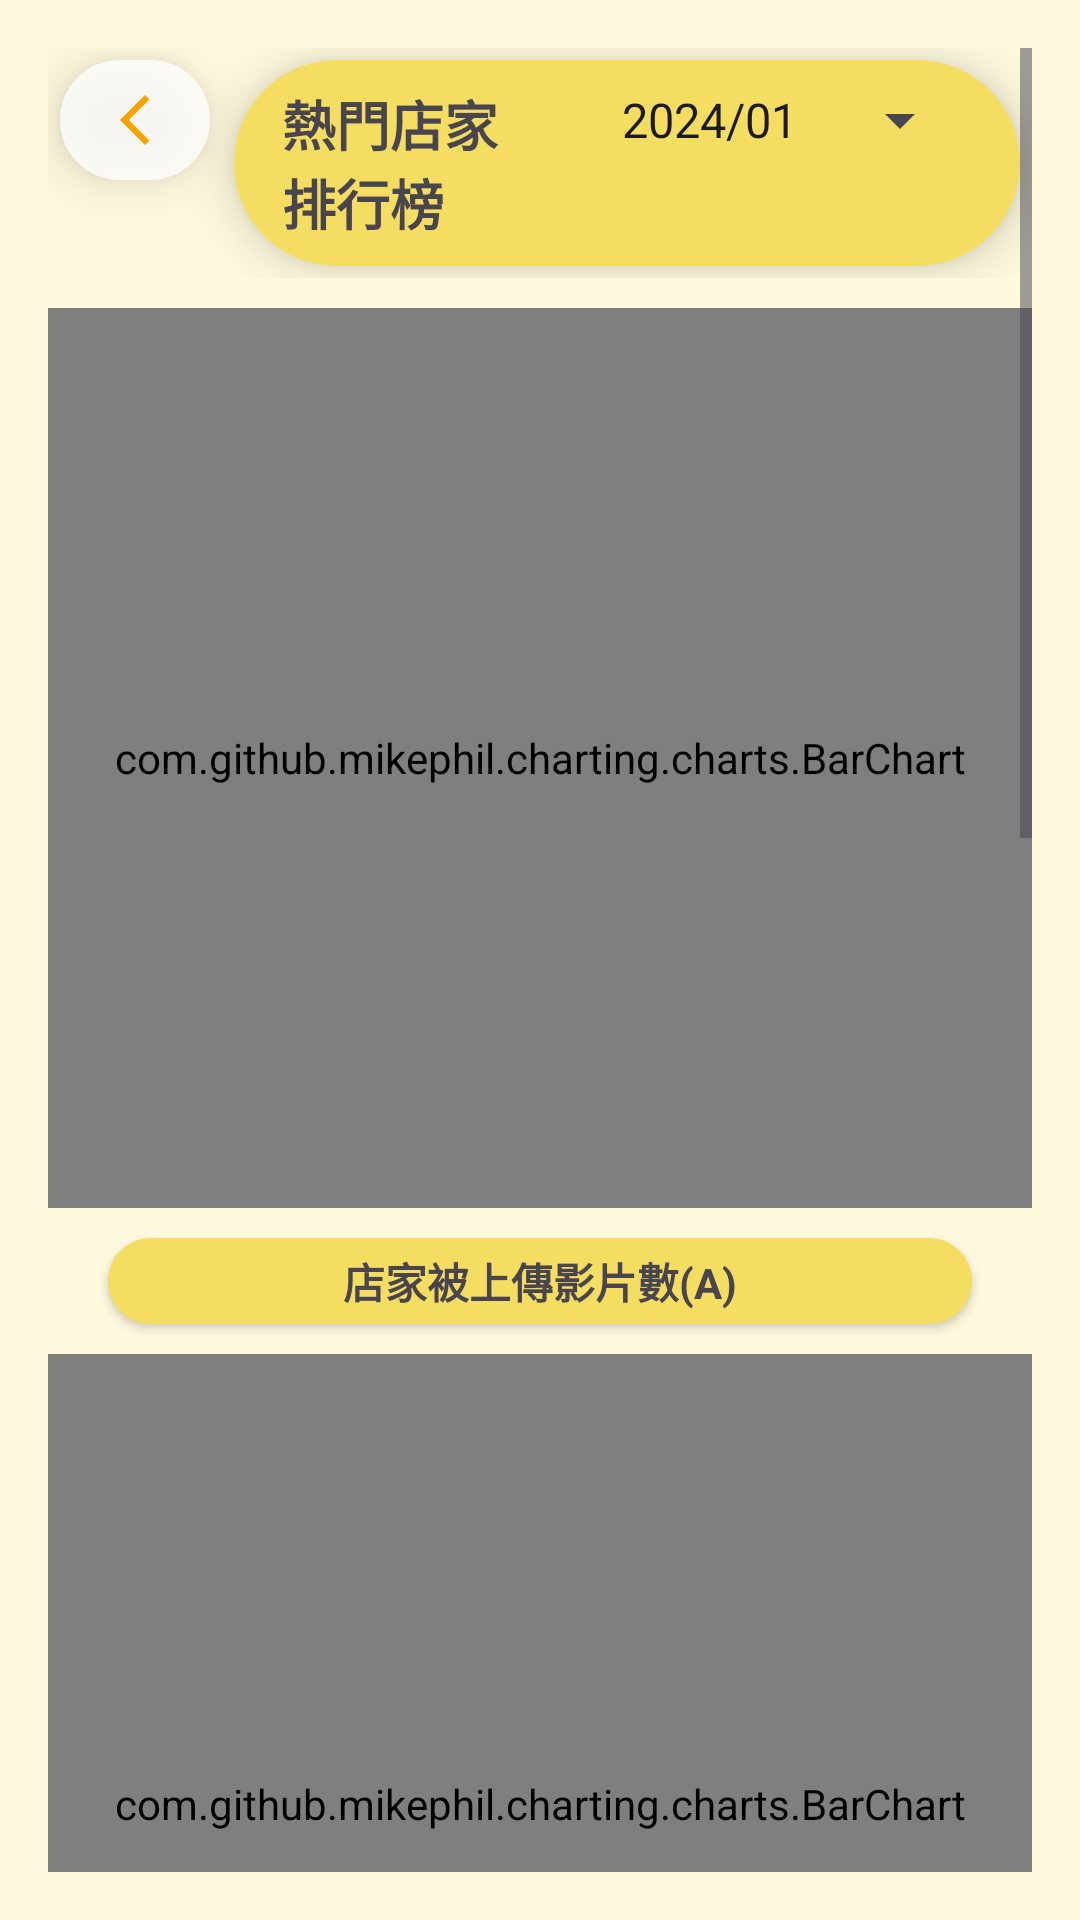

Where icons sit on this 1080px x 1920px app screen, as rect(x1, y1, x2, y2):
back: rect(60, 60, 210, 180)
